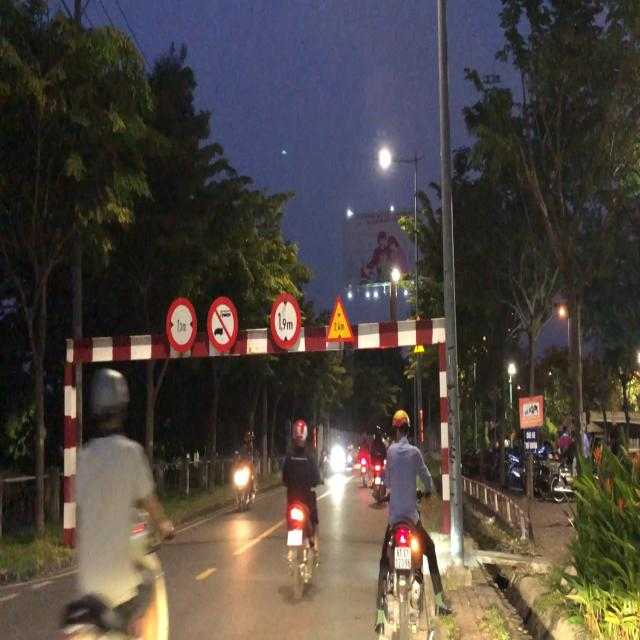Bien bao cam xe oto khach va xe oto tai: (205, 289, 241, 356)
Bien bao chieu cao tinh khong thuc te: (322, 291, 356, 348)
Bien bao han che chieu cao: (267, 290, 306, 352)
